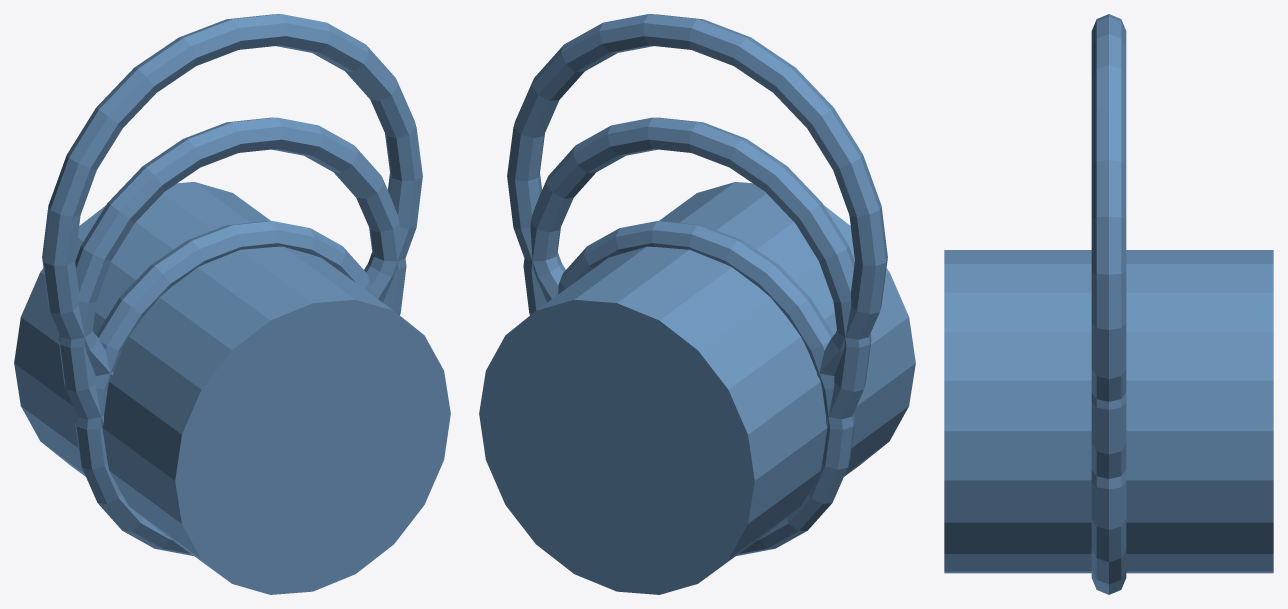
The model's file is sport_115.glb.
3 views of the same model, side by side, from view 1: azimuth 30°, elevation 25°; view 2: azimuth 150°, elevation 25°; view 3: azimuth 270°, elevation 25° (orthographic). The views are drawn at different scales.
Visible parts, largest first — view 1: world; view 2: world; view 3: world.
Boxes of the visible parts, x1,y1,x2,y2 form: world: (14,14,450,594); world: (479,14,915,594); world: (944,14,1273,594).
Bounding box in the file's own units: 1.15 × 1.55 × 0.85.
